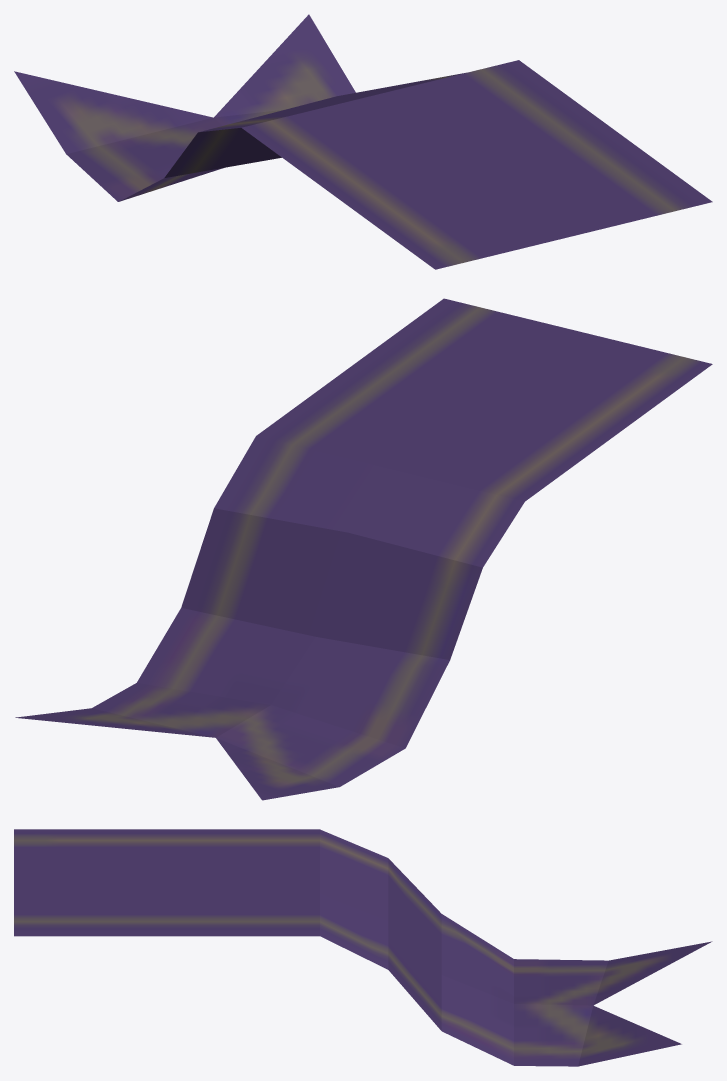
File: loreBookMark01.fbx
3 views of the same model, one above another, from view 1: azimuth 30°, elevation 25°; view 2: azimuth 150°, elevation 25°; view 3: azimuth 270°, elevation 25° (orthographic). The views are drawn at different scales.
Visible parts, largest first — view 1: loreBookMark01; view 2: loreBookMark01; view 3: loreBookMark01.
Part boxes in pixels (x1,y1,x2,y2): loreBookMark01: [14, 14, 712, 269]; loreBookMark01: [15, 298, 712, 800]; loreBookMark01: [14, 829, 712, 1066].
Size of the model in its own units: 0.8501 by 0.4492 by 2.19.
